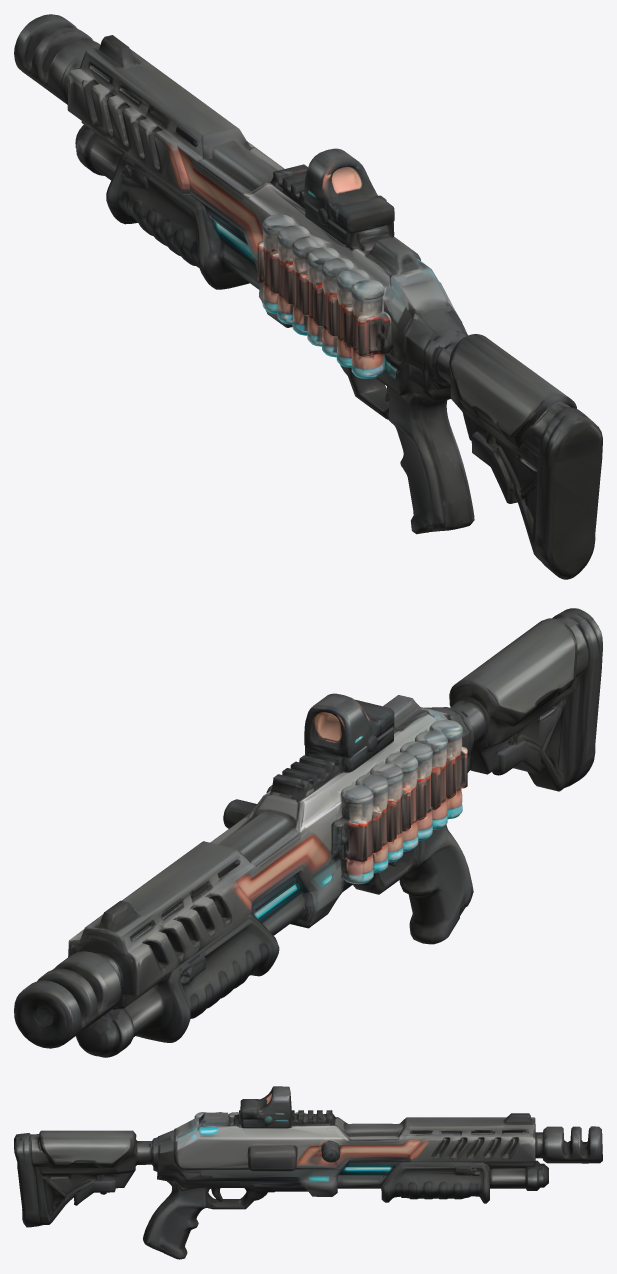
3 renders of one model, top to bottom at view 1: azimuth 30°, elevation 25°; view 2: azimuth 150°, elevation 25°; view 3: azimuth 270°, elevation 25°, orthographic. The views are drawn at different scales.
Visible parts, largest first — view 1: gun_shotgun; view 2: gun_shotgun; view 3: gun_shotgun.
Boxes of the visible parts, x1,y1,x2,y2 form: gun_shotgun: [14, 14, 602, 579]; gun_shotgun: [14, 608, 602, 1057]; gun_shotgun: [14, 1086, 602, 1259].
Bounding box in the file's own units: 0.1465 × 0.3767 × 1.19.
1 material, 1 textured.
